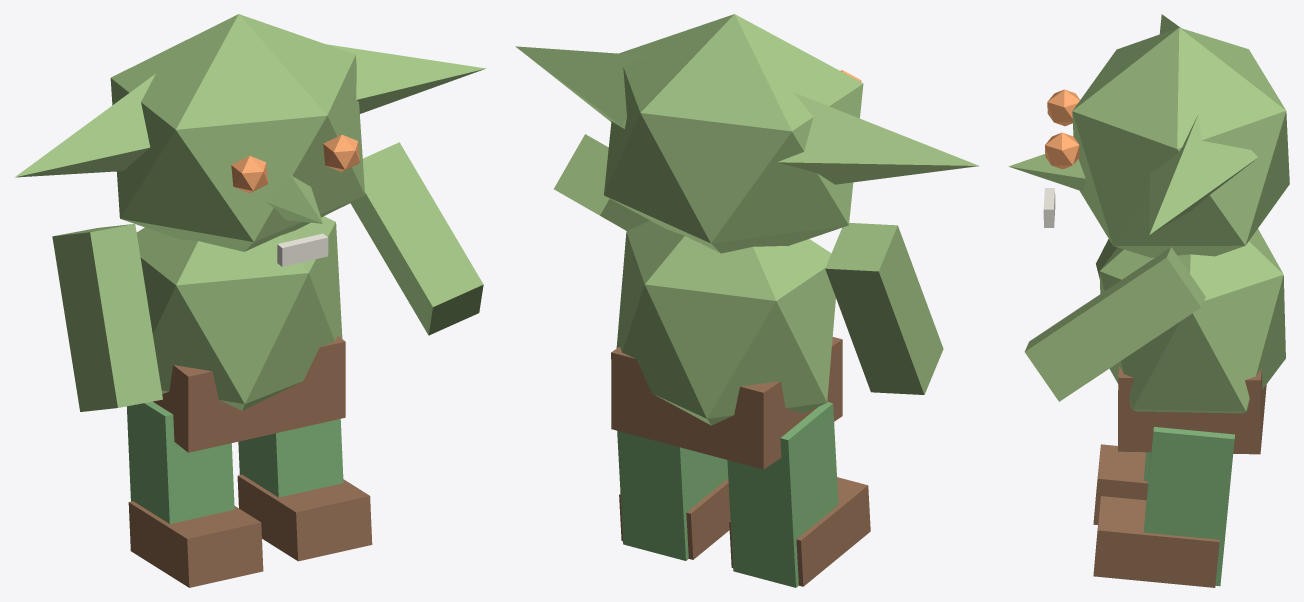
File: npcpose_goblin_attack_04.glb
The picture shows the model from 3 angles, left to right: view 1: azimuth 30°, elevation 25°; view 2: azimuth 150°, elevation 25°; view 3: azimuth 270°, elevation 25°; orthographic projection. The views are drawn at different scales.
Visible parts, largest first — view 1: npcpose; view 2: npcpose; view 3: npcpose.
Part boxes in pixels (box(x1,y1,x2,y2)): npcpose: box(14, 14, 485, 587); npcpose: box(515, 14, 978, 587); npcpose: box(1008, 14, 1289, 587).
Size of the model in its own units: 1.03 by 1.12 by 0.5528.
